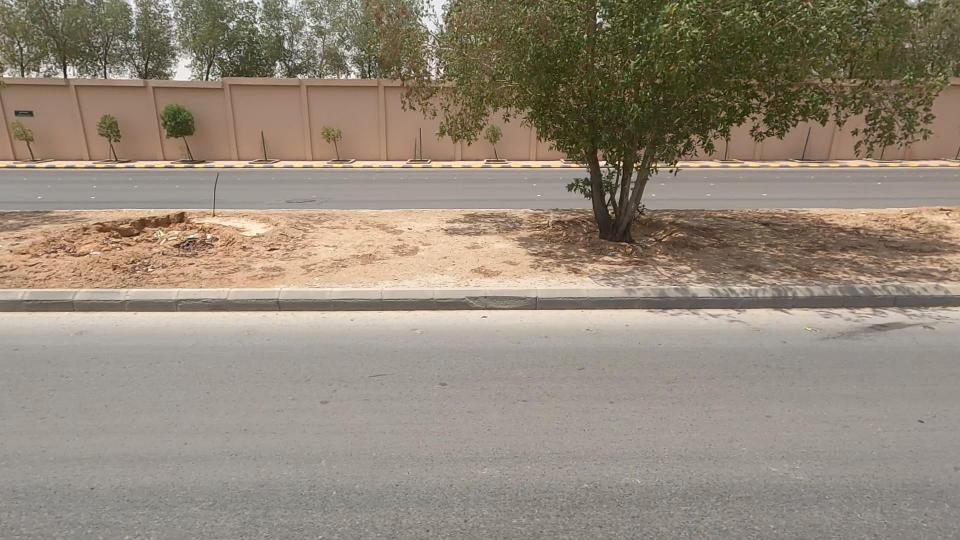CLUTTER_SIDEWALK: (0, 151, 645, 345)
GARBAGE: (118, 212, 234, 260)
